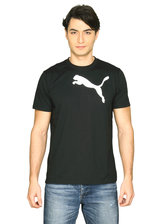clothoes: (30, 52, 134, 189)
